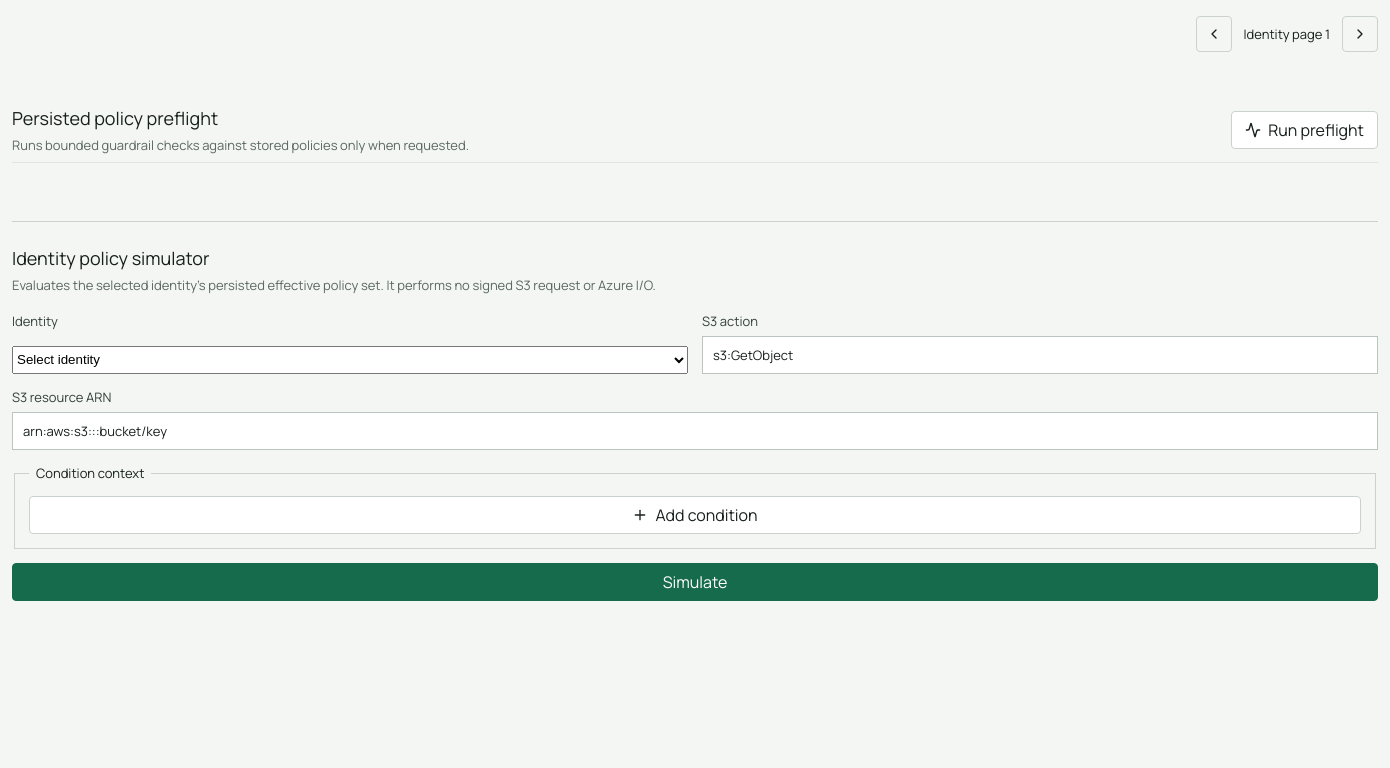
Test: PolicyDiagnostics › runs preflight and renders bounded findings
Click the button "Run preflight" at (1305, 130), box [1231,111,1378,149]
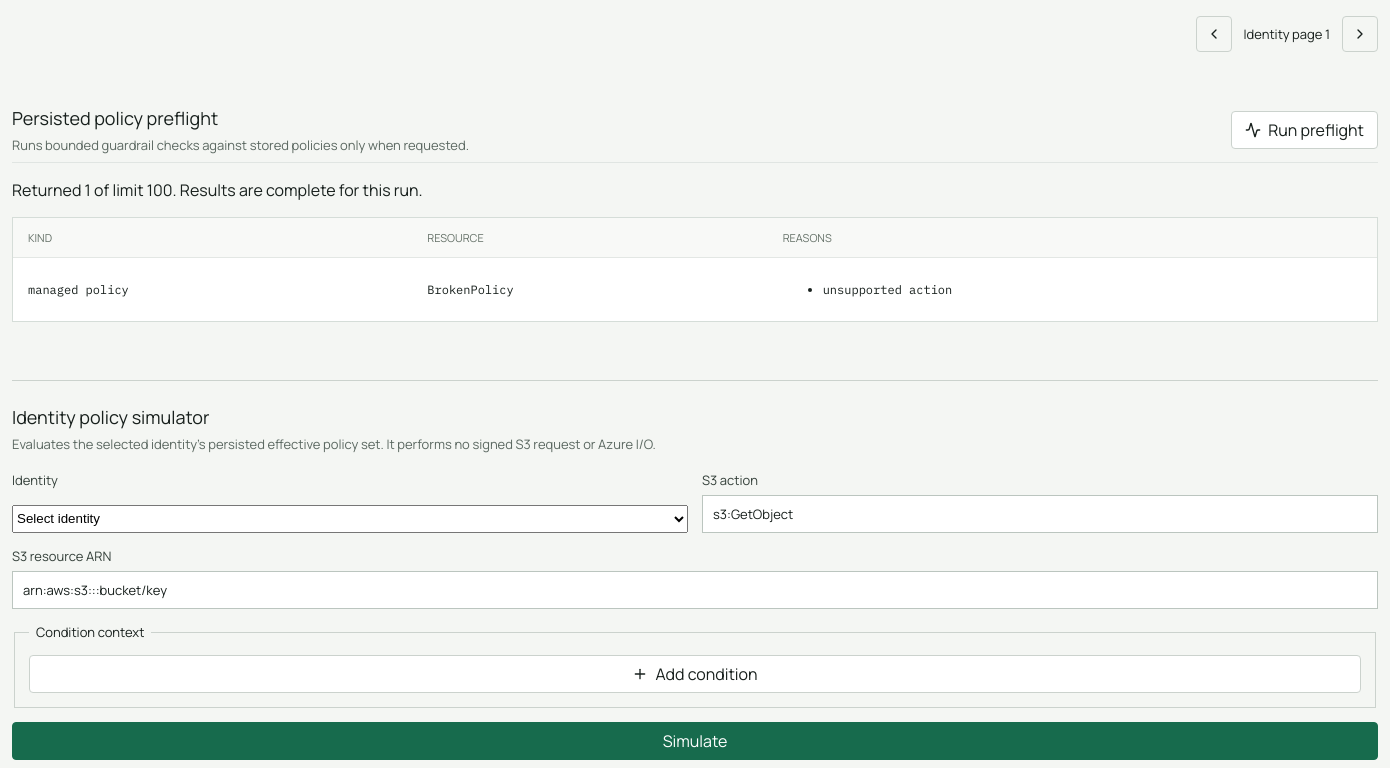
Check: the list item "unsupported action" is shown, box [823,282,952,297]
